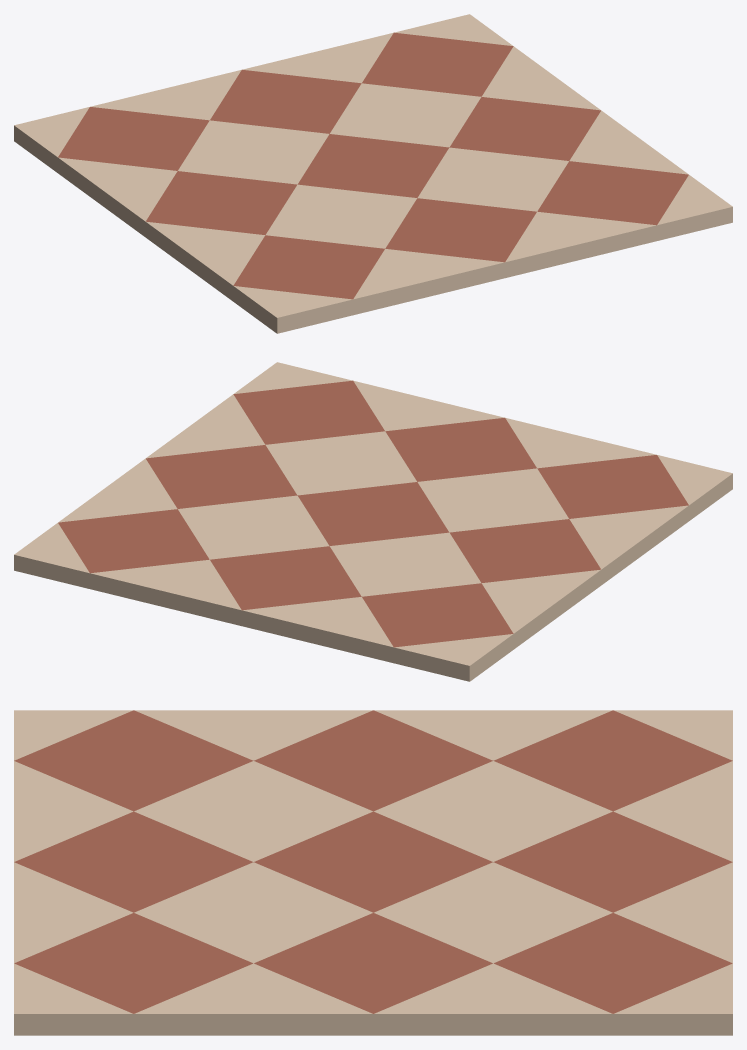
Rendered from roman_floor_2.fbx.
3 views of the same model, one above another, from view 1: azimuth 30°, elevation 25°; view 2: azimuth 150°, elevation 25°; view 3: azimuth 270°, elevation 25° (orthographic). The views are drawn at different scales.
Visible parts, largest first — view 1: Cube.027; view 2: Cube.027; view 3: Cube.027.
Boxes of the visible parts, x1,y1,x2,y2 form: Cube.027: [14, 14, 732, 333]; Cube.027: [14, 362, 732, 681]; Cube.027: [14, 710, 732, 1035].
Bounding box in the file's own units: 3 × 0.1 × 3.
